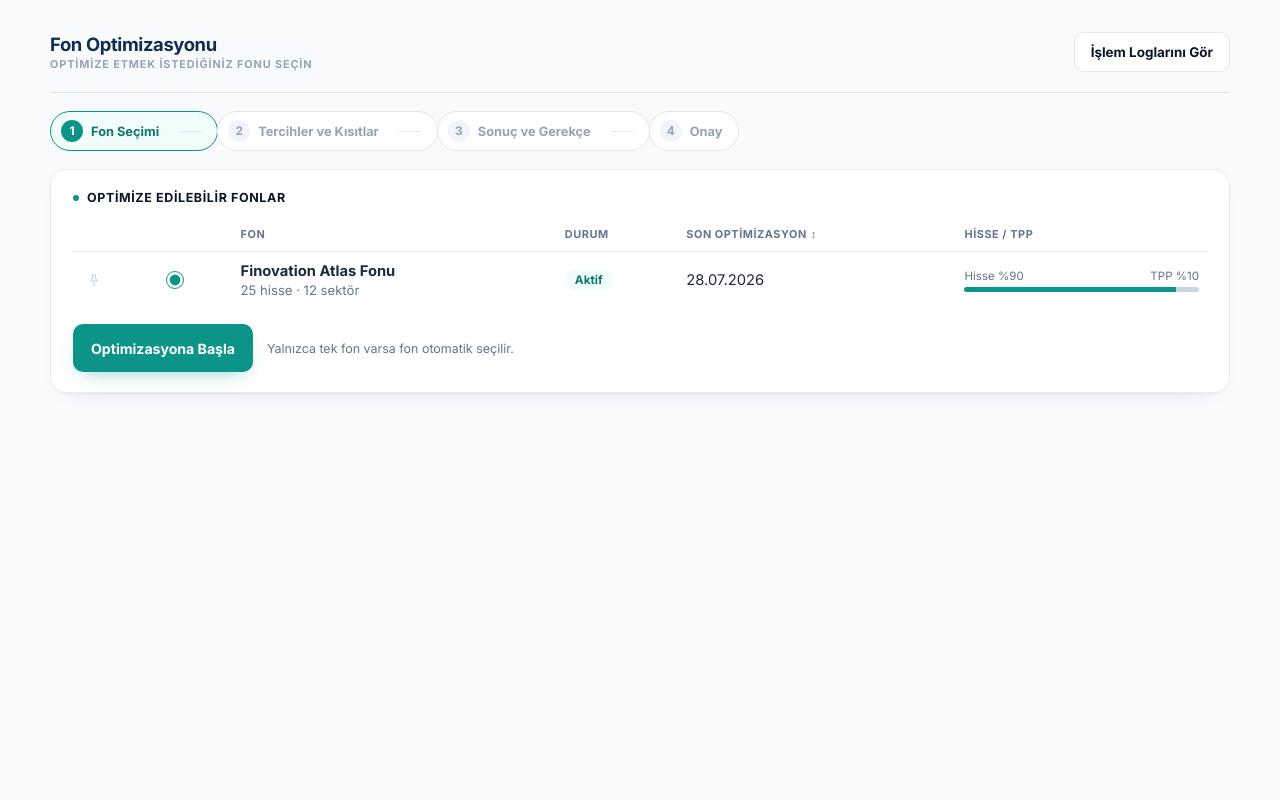
Scenario: OptimizationFormPage › hisse sayısı aralığı kaydırıcısı minWidth'in altına daralamaz
Click the button "Optimizasyona Başla" at (163, 348), box [73,324,253,372]
(page scrolled)
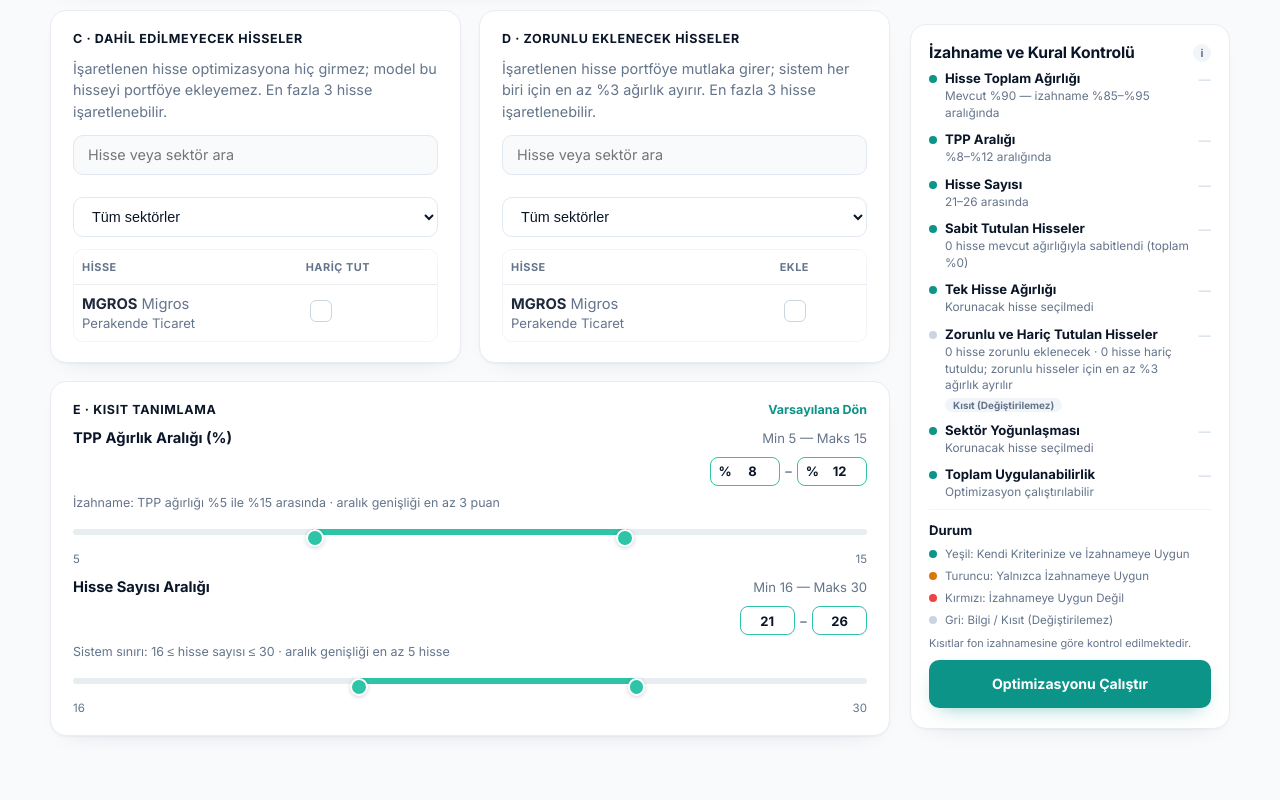
Expected: the button "Optimizasyonu Çalıştır" is shown, [929,660,1211,708]
Set the slider named "Hisse Sayısı Aralığı Minimum kaydırıcı" to "29" at (803, 681), box [73,670,867,692]
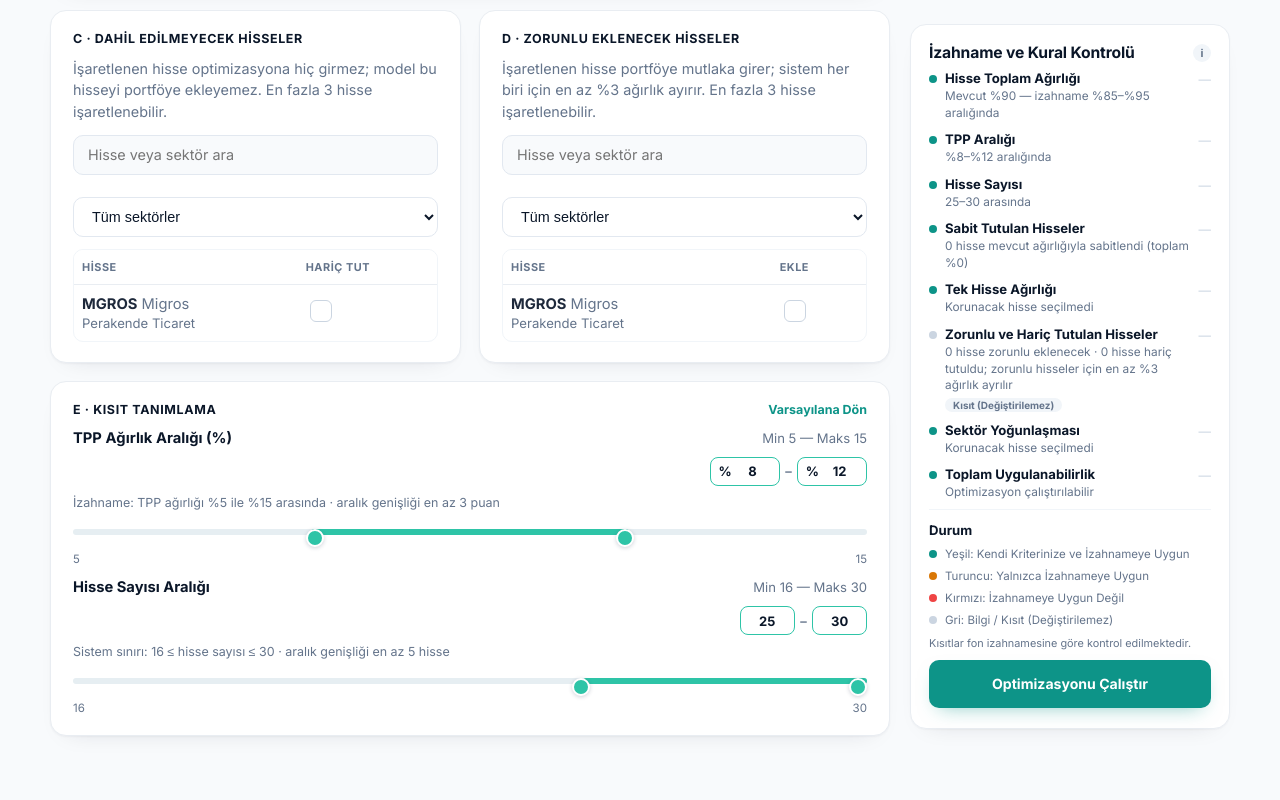
Expected: the button "Optimizasyonu Çalıştır" is enabled, [929,660,1211,708]
Expected: the field named "Hisse Sayısı Aralığı Minimum" holds "25", [748,612,786,630]
Expected: the field named "Hisse Sayısı Aralığı Maksimum" holds "30", [820,612,859,630]
